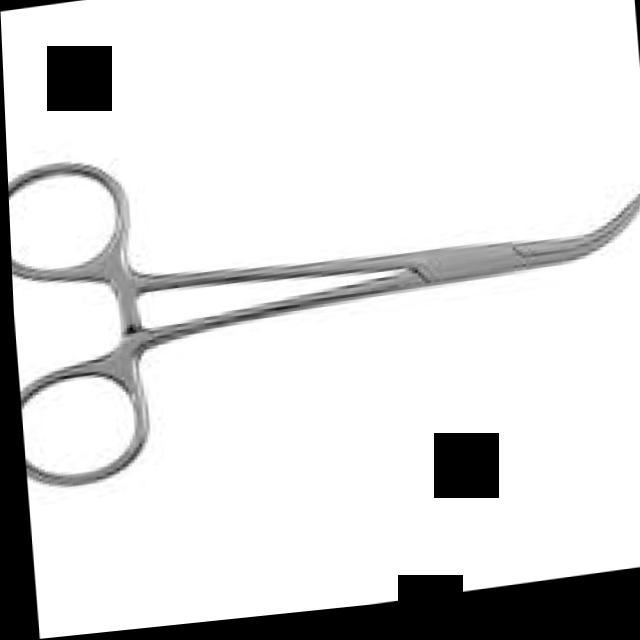Artery Forceps: (5, 86, 640, 492)
